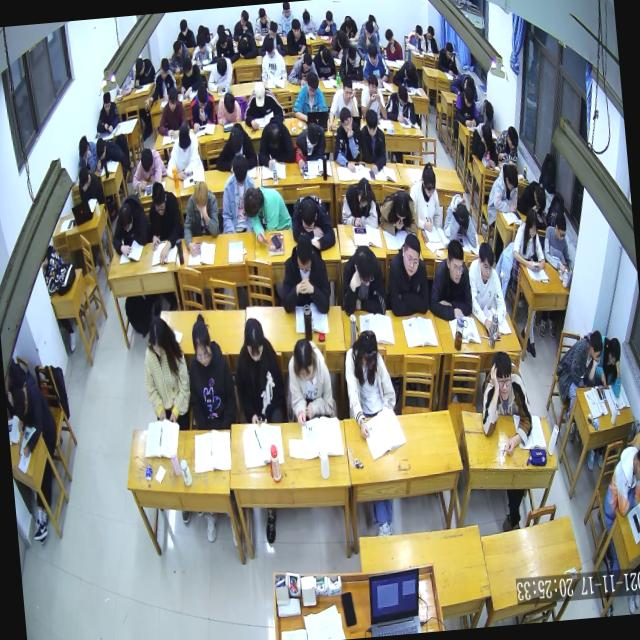bow: (474, 346, 534, 458), (240, 180, 294, 248), (288, 188, 336, 252), (108, 191, 152, 260), (254, 112, 298, 172), (212, 118, 258, 174), (241, 76, 285, 131), (376, 186, 420, 240), (440, 191, 480, 250), (127, 144, 170, 194), (283, 49, 318, 88), (92, 132, 126, 168), (516, 177, 548, 214), (390, 58, 420, 92), (448, 70, 478, 101), (326, 26, 351, 59), (132, 55, 156, 88), (234, 30, 259, 60), (338, 10, 359, 40)
down: (8, 368, 58, 458), (188, 318, 214, 368), (241, 314, 266, 364), (352, 241, 378, 288), (289, 337, 315, 384), (356, 328, 380, 376), (146, 316, 168, 361), (293, 232, 316, 274), (241, 183, 266, 220), (298, 194, 318, 234), (150, 180, 169, 218), (229, 154, 250, 186), (10, 379, 28, 416), (420, 164, 438, 199), (116, 202, 134, 235), (452, 199, 470, 232), (604, 336, 621, 370), (355, 176, 373, 208), (192, 180, 210, 212), (264, 120, 282, 151), (392, 192, 411, 221), (502, 164, 520, 194), (228, 124, 245, 154), (304, 119, 321, 149), (524, 208, 540, 239), (552, 211, 568, 241), (176, 123, 192, 153), (75, 161, 91, 190), (304, 69, 320, 98), (194, 82, 210, 111), (629, 443, 640, 484), (138, 146, 154, 174), (364, 108, 379, 137), (532, 185, 548, 212), (504, 125, 520, 152), (480, 120, 494, 149), (340, 74, 354, 103), (252, 78, 266, 107), (157, 54, 171, 81), (222, 91, 237, 116), (94, 136, 108, 162), (396, 80, 410, 106), (165, 85, 179, 110), (366, 42, 380, 66), (262, 36, 276, 59), (214, 56, 228, 78), (180, 56, 193, 79), (482, 96, 494, 120), (462, 82, 474, 106), (300, 50, 314, 70), (402, 60, 416, 80), (290, 18, 302, 40), (101, 90, 112, 113), (196, 33, 207, 56), (134, 56, 146, 76), (178, 16, 190, 36), (170, 38, 182, 58), (267, 20, 279, 40), (319, 46, 331, 66), (345, 46, 357, 66), (300, 6, 311, 27), (217, 31, 229, 50), (336, 31, 348, 50), (296, 155, 308, 174), (238, 7, 249, 27), (343, 14, 354, 34), (384, 27, 395, 46), (444, 40, 454, 60), (364, 20, 374, 40), (414, 23, 424, 42), (257, 6, 267, 25), (324, 8, 334, 27), (425, 24, 435, 42), (281, 2, 291, 18)
lookup: (490, 349, 516, 403), (444, 237, 467, 286), (398, 231, 422, 277), (476, 241, 496, 282), (338, 106, 354, 136), (365, 73, 380, 99)
sit: (182, 310, 238, 433), (137, 310, 194, 430), (341, 326, 398, 441), (229, 313, 287, 426), (282, 332, 336, 427), (274, 228, 332, 316), (380, 231, 432, 321), (422, 236, 474, 324), (464, 236, 508, 334), (336, 240, 388, 320), (214, 150, 260, 236), (143, 177, 186, 268), (176, 178, 222, 258), (551, 326, 607, 388), (597, 442, 640, 521), (590, 334, 626, 408), (162, 120, 204, 182), (406, 162, 443, 232), (508, 207, 546, 275), (328, 104, 364, 174), (356, 106, 389, 178), (481, 160, 522, 216), (289, 66, 329, 122), (324, 72, 361, 132), (338, 174, 378, 228), (540, 209, 573, 272), (290, 120, 328, 174), (154, 84, 188, 140), (186, 80, 218, 134), (358, 37, 392, 87), (382, 76, 417, 124), (468, 116, 499, 170), (356, 69, 388, 120), (146, 56, 179, 105), (256, 34, 288, 80), (452, 81, 481, 128), (492, 124, 521, 170), (75, 162, 105, 206), (204, 54, 235, 94), (94, 86, 120, 132), (176, 56, 203, 100), (336, 43, 364, 85), (354, 18, 380, 60), (210, 24, 238, 62), (258, 19, 286, 57), (214, 88, 242, 126), (283, 16, 309, 56), (187, 28, 214, 66), (311, 40, 338, 78), (167, 36, 192, 74), (230, 6, 255, 44), (436, 38, 460, 75), (403, 20, 428, 52), (274, 2, 296, 38), (314, 7, 338, 40), (252, 5, 273, 41), (382, 26, 403, 62), (474, 96, 496, 130), (175, 15, 196, 46), (297, 5, 316, 35), (422, 23, 438, 54)
